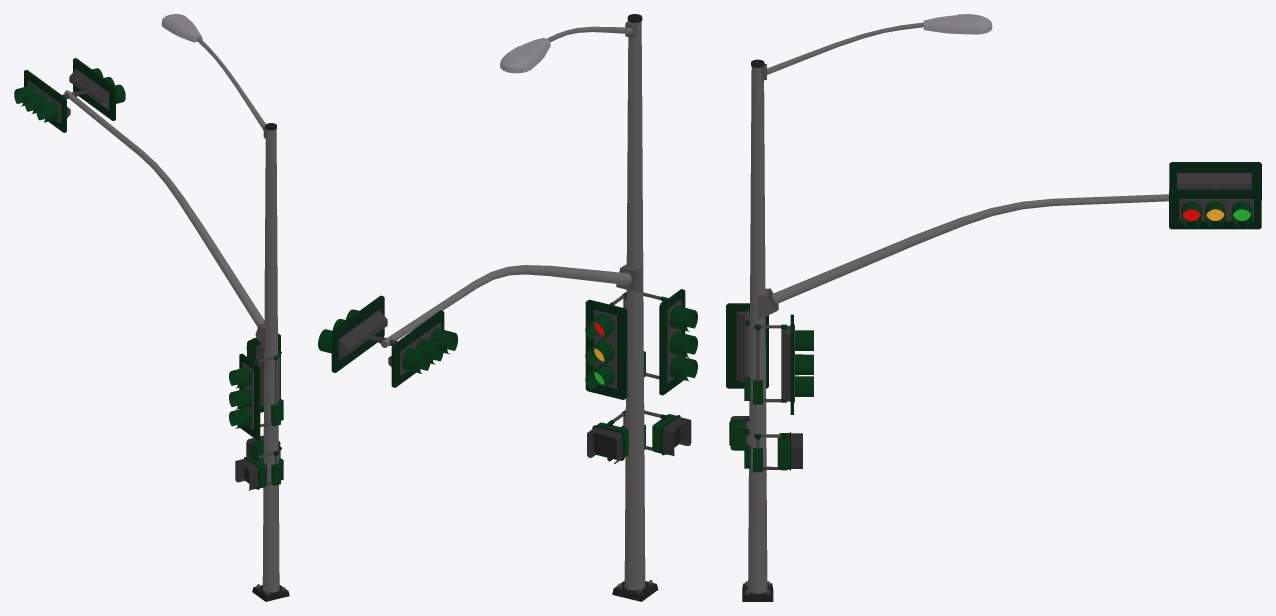
Rendered from TrafficLight.glb.
3 views of the same model, side by side, from view 1: azimuth 30°, elevation 25°; view 2: azimuth 150°, elevation 25°; view 3: azimuth 270°, elevation 25° (orthographic). The views are drawn at different scales.
Visible parts, largest first — view 1: TrafficLight; view 2: TrafficLight; view 3: TrafficLight.
Boxes of the visible parts, left/top/right/bottom form: TrafficLight: left=14, top=14, right=289, bottom=601; TrafficLight: left=318, top=14, right=697, bottom=601; TrafficLight: left=726, top=14, right=1261, bottom=601.
Size of the model in its own units: 1.97 by 11.48 by 9.66.
1 material, 1 textured.
